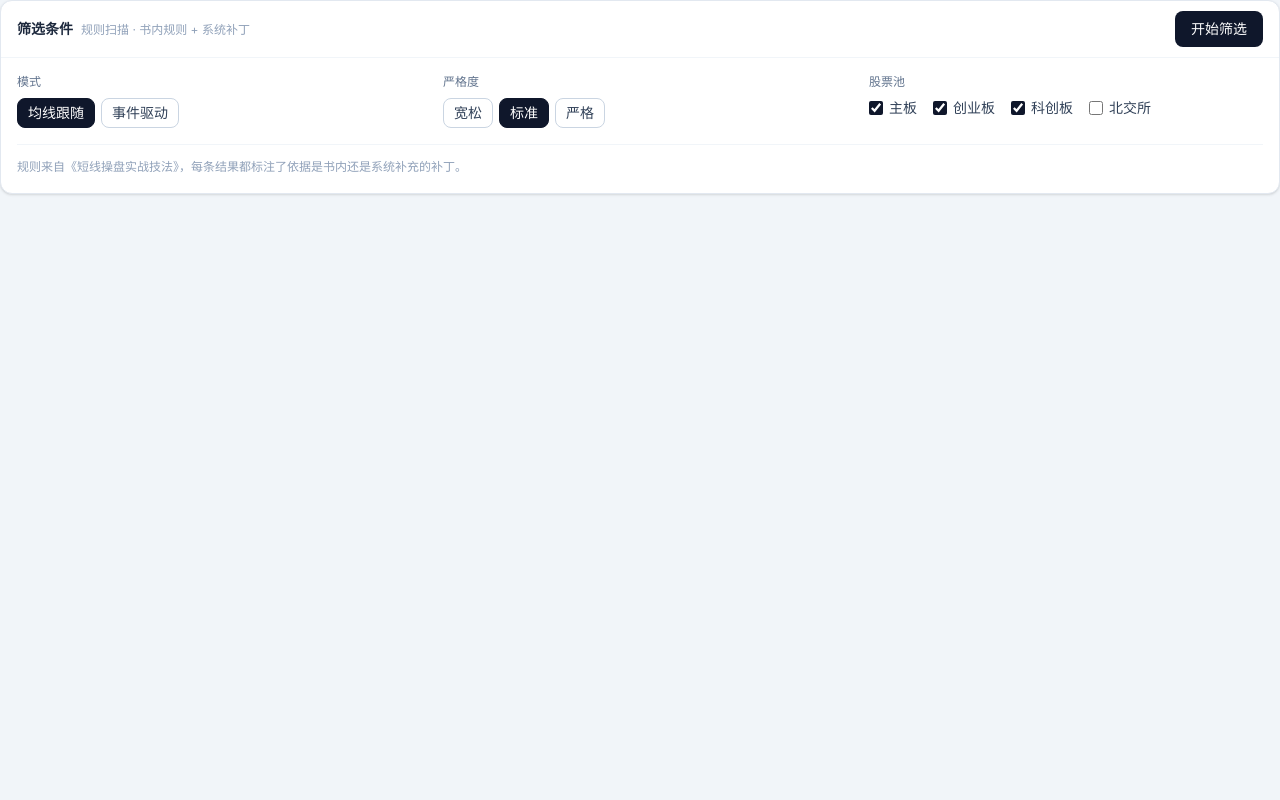
ScreenerPanel 结果呈现 › 0 只时说明这是正常输出，而不是故障
This screenshot has width=1280, height=800.
Click the button "开始筛选" at (1219,29), box [1175,11,1263,47]
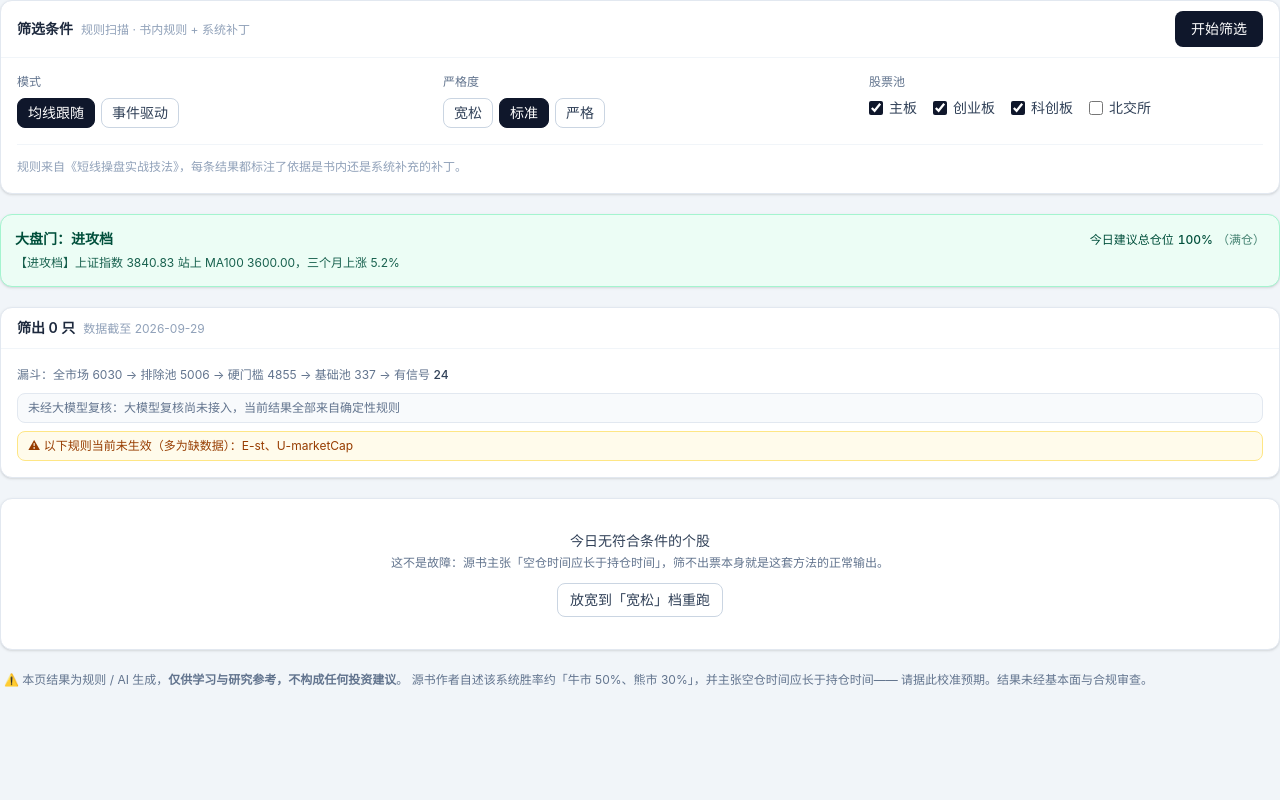
Now the text "今日无符合条件的个股" is shown, box [570,532,710,548]
Now the text "这不是故障：源书主张「空仓时间应长于持仓时间」，筛不出票本身就是这套方法的正常输出。" is shown, box [391,554,889,570]
